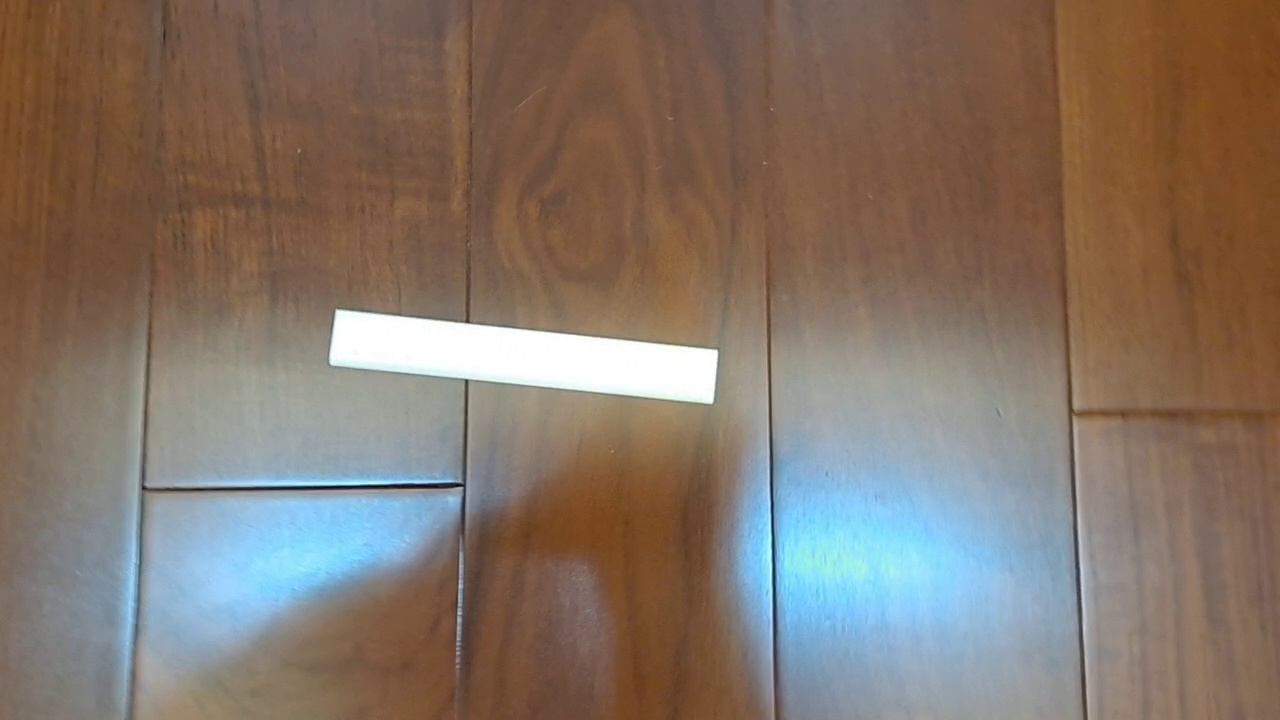ruler: (327, 306, 719, 406)
